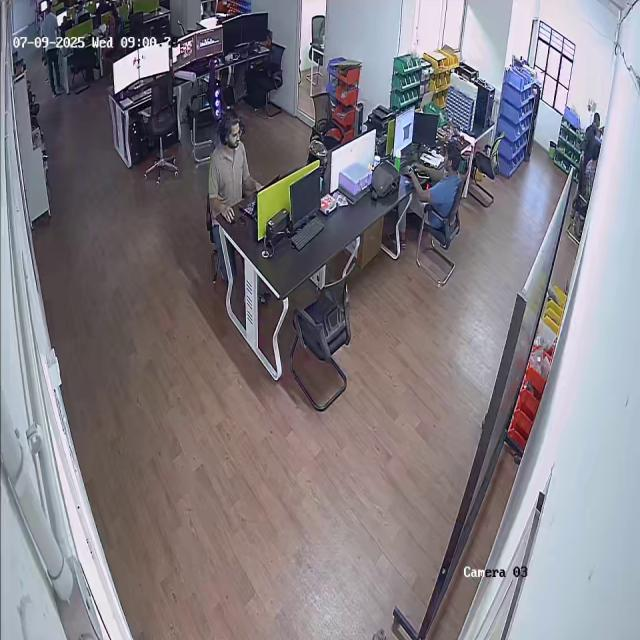person: (206, 110, 258, 220), (418, 146, 465, 224)
